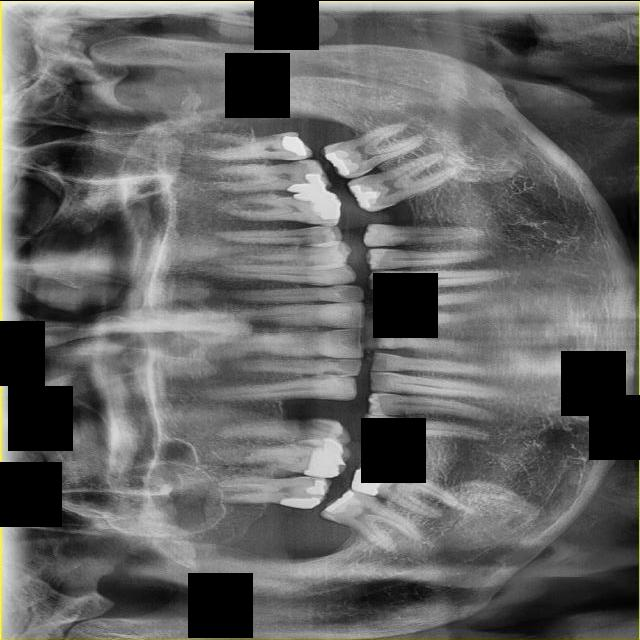NucleOSS Implant: (301, 433, 354, 490), (293, 175, 349, 226), (350, 456, 388, 497), (278, 130, 312, 159), (324, 146, 353, 178), (322, 488, 355, 513), (288, 172, 328, 192), (347, 183, 377, 208), (279, 495, 322, 511), (306, 479, 327, 495)
Sterngold Implant: (321, 367, 346, 377), (282, 489, 294, 497), (324, 359, 346, 362)
